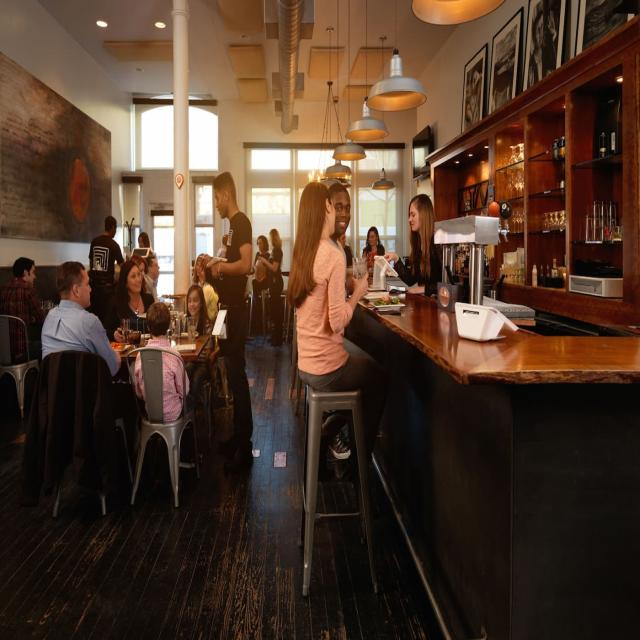person: (292, 192, 389, 474), (211, 175, 269, 459), (46, 254, 125, 378), (310, 133, 361, 300), (389, 192, 443, 299), (141, 317, 192, 418), (9, 242, 59, 337), (87, 203, 127, 294), (192, 222, 229, 317), (122, 258, 162, 328), (360, 213, 391, 285), (182, 292, 216, 344)
